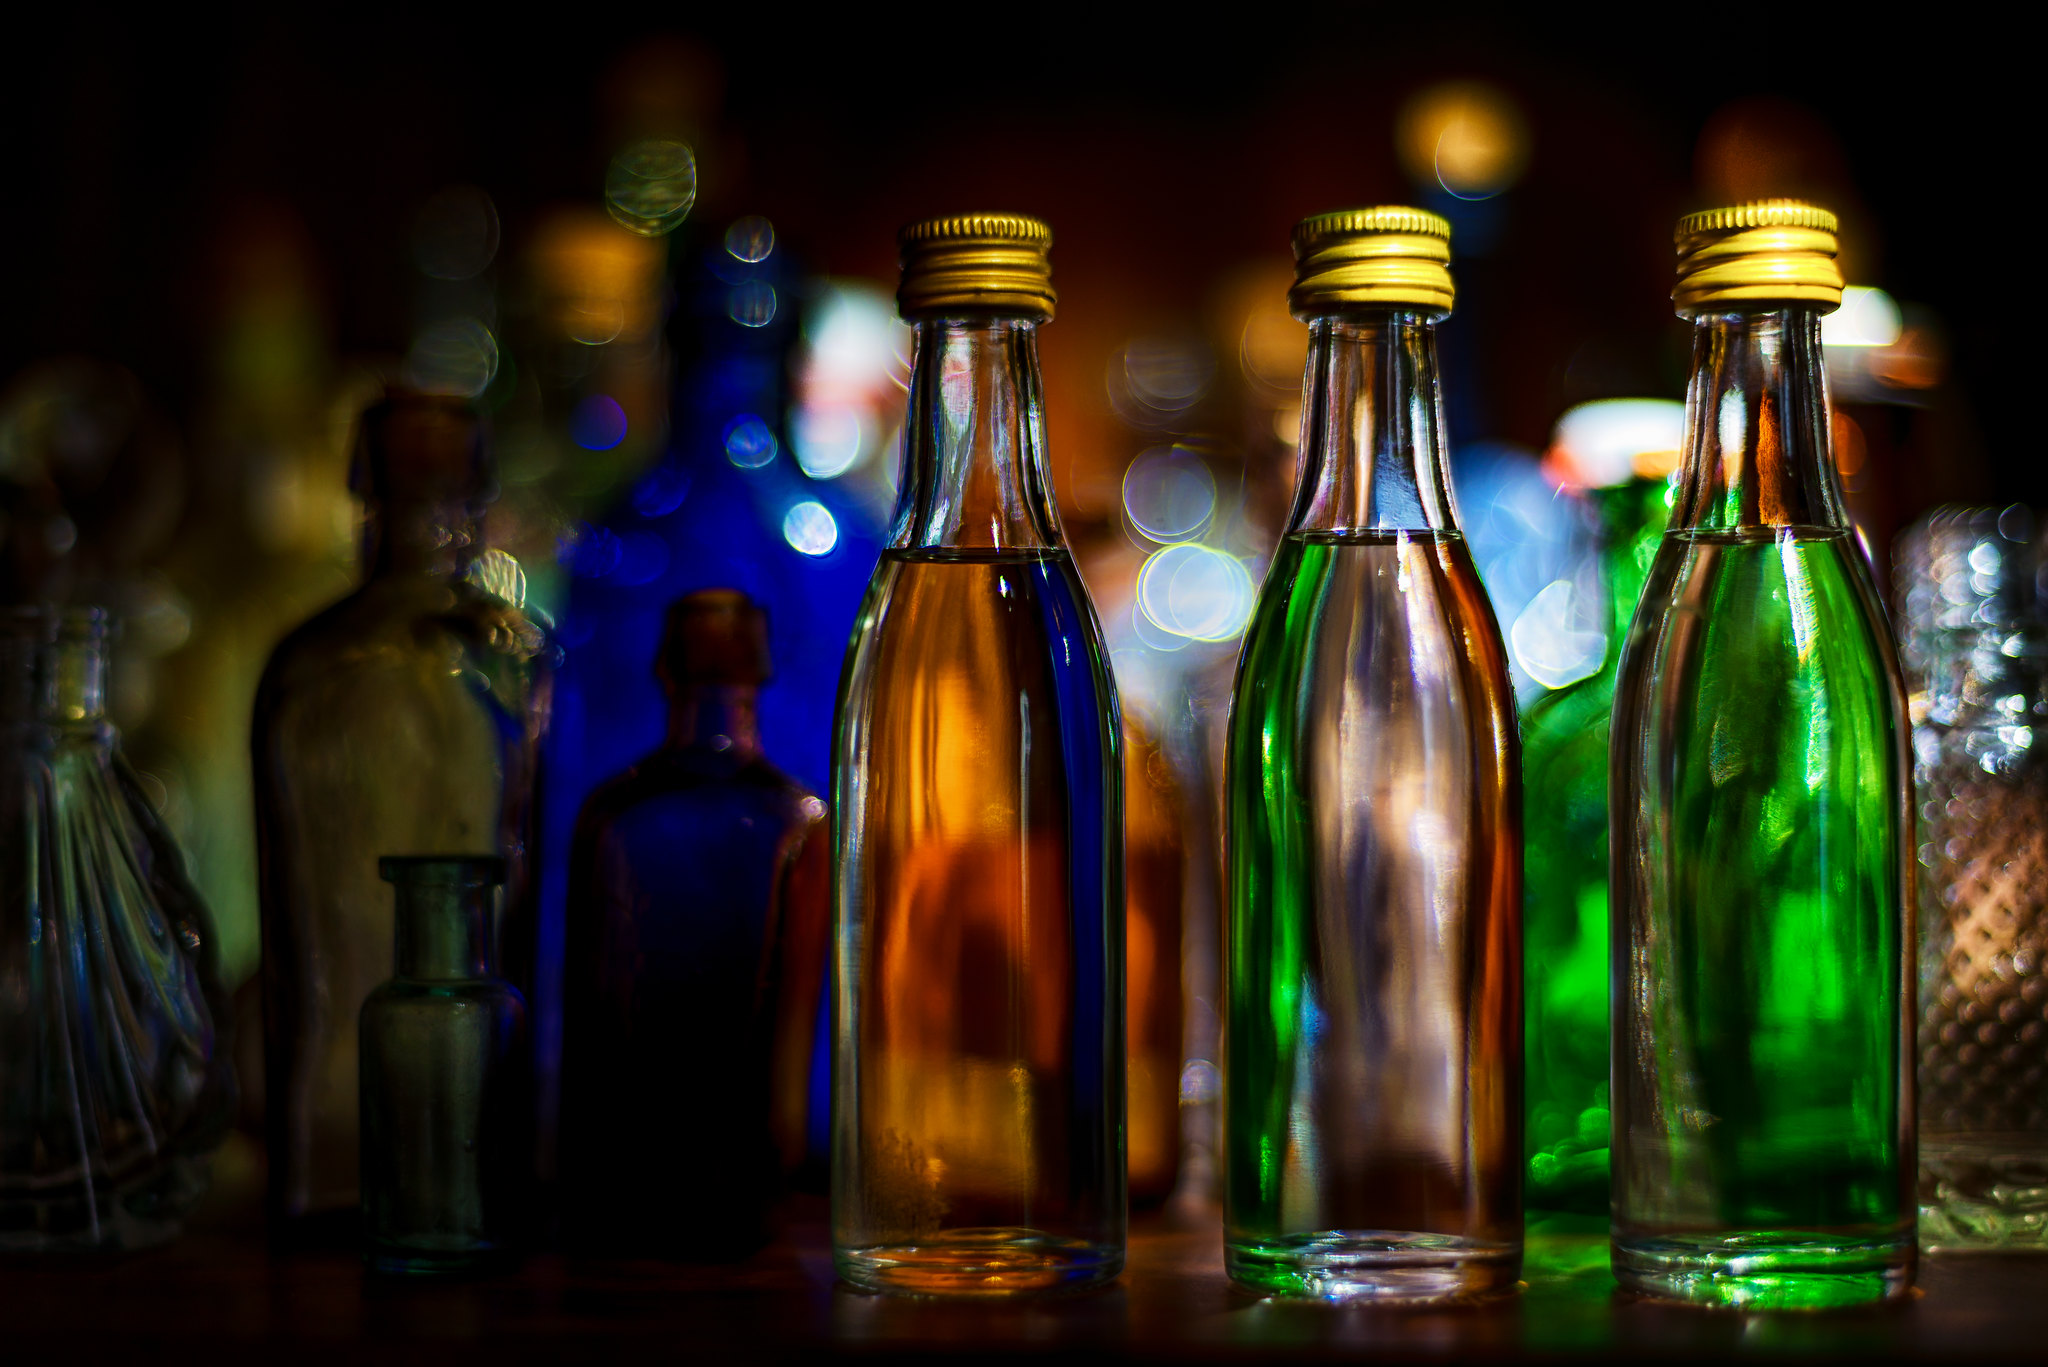bottle: (1594, 211, 1953, 1314), (1205, 198, 1545, 1306), (817, 207, 1154, 1301)
